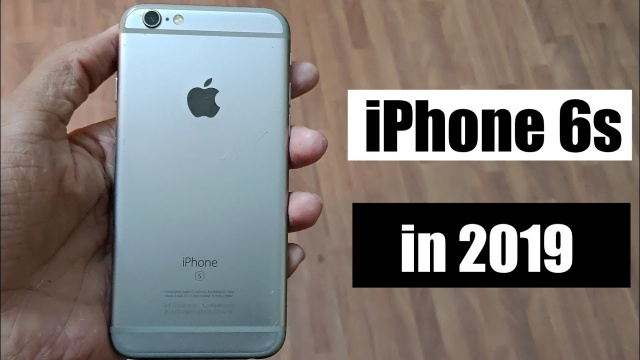apple: (180, 69, 240, 141)
